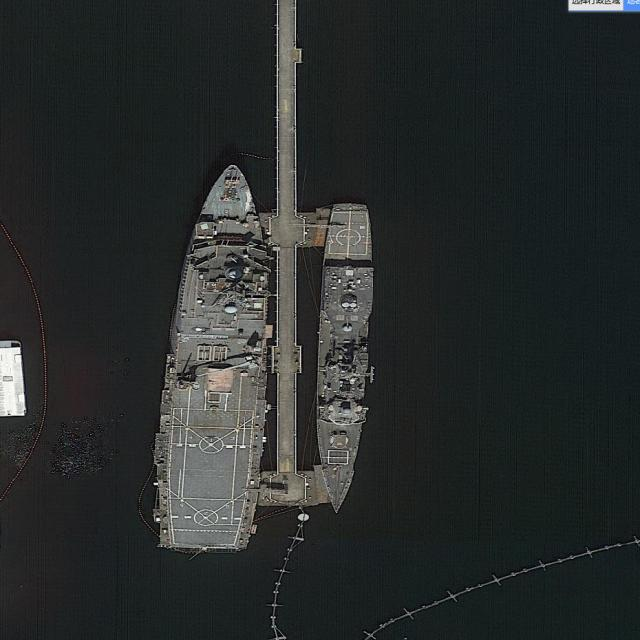Dock: (277, 3, 299, 473)
Frigate: (312, 202, 376, 514)
Landing: (145, 159, 287, 559)
